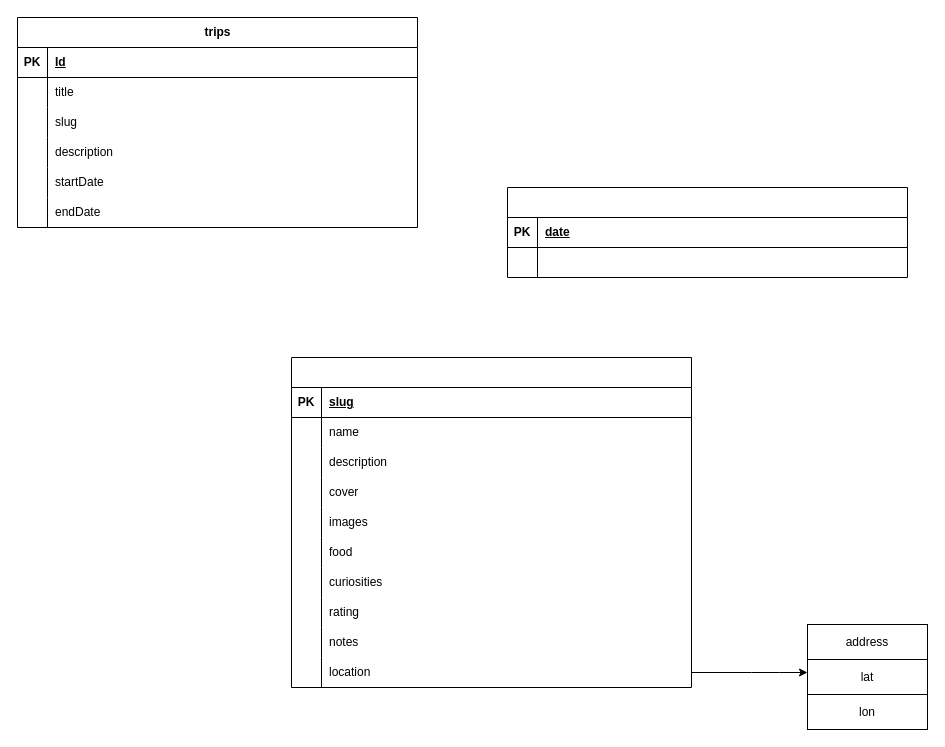
This 945x747 diagram has some shape labels left out. Each missing label, with the box of its shape:
days: (506, 186, 908, 278)
stages: (290, 356, 692, 688)
